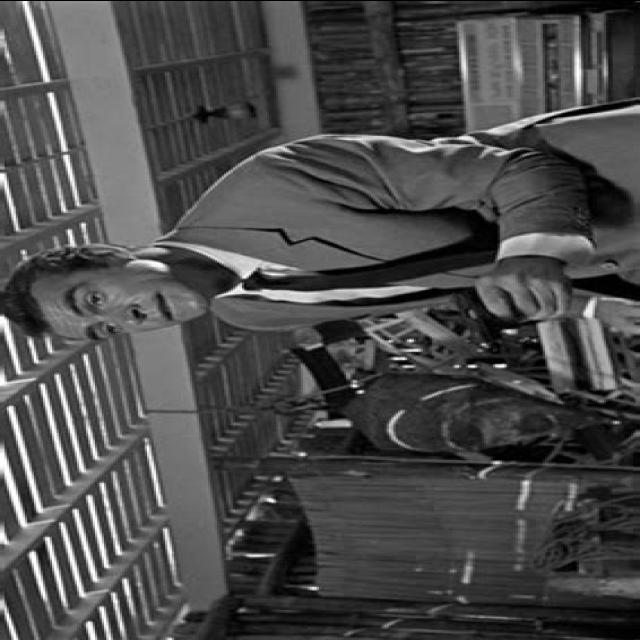weapons: (419, 278, 560, 366)
